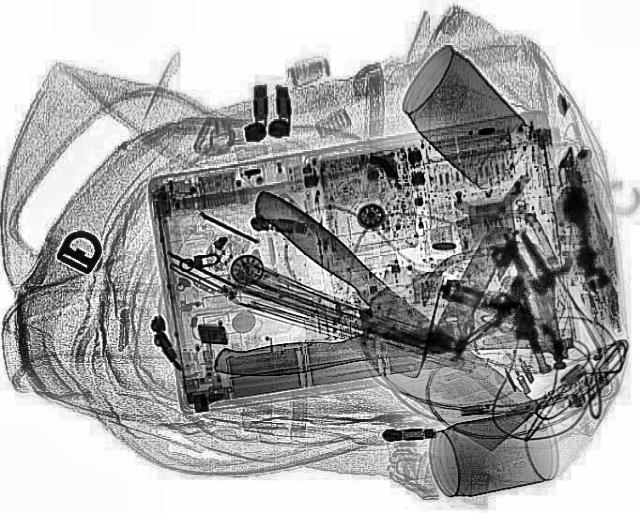Knife: (206, 178, 548, 456), (202, 265, 570, 385)
